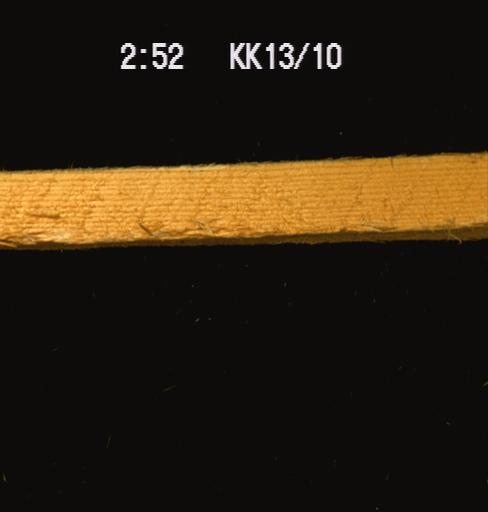wave: (243, 221, 487, 242)
